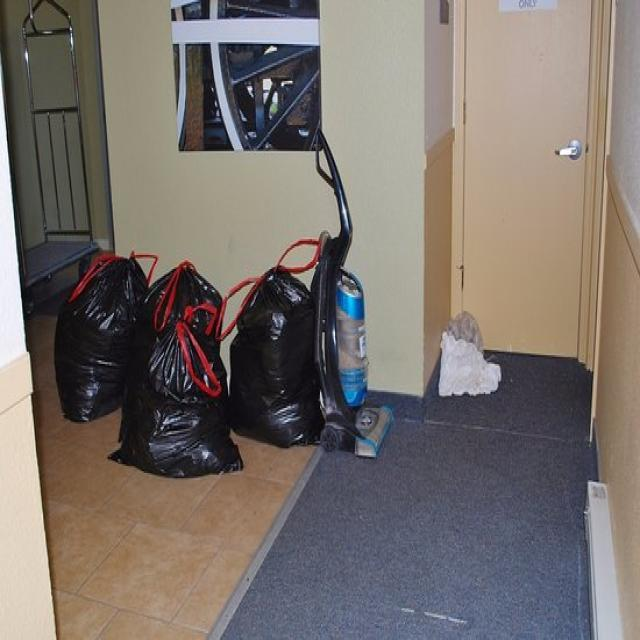Vinyl: (109, 292, 247, 494), (218, 232, 334, 448), (46, 237, 156, 429)
